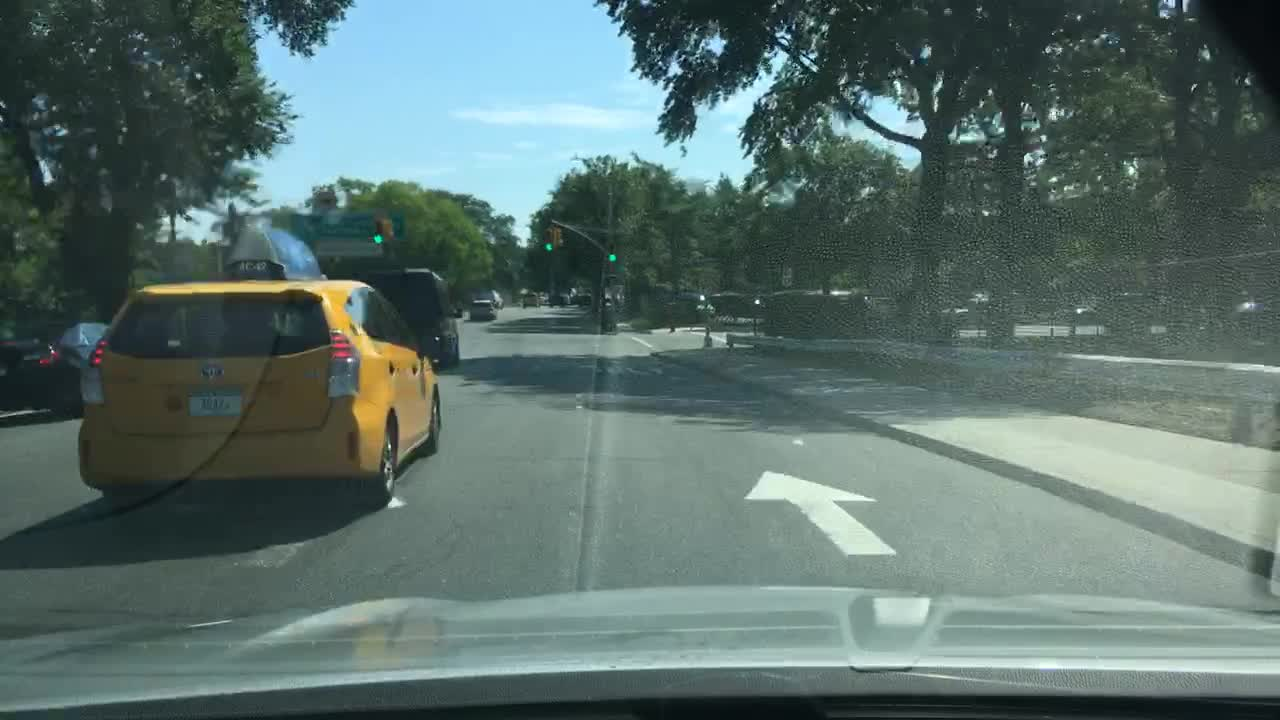car: (71, 223, 443, 496), (0, 321, 109, 422), (361, 269, 457, 368), (1070, 292, 1151, 330), (655, 289, 717, 327), (709, 286, 768, 322), (469, 296, 498, 319), (520, 292, 543, 309), (550, 291, 568, 309), (573, 291, 591, 309)
traffic light: (373, 214, 389, 248), (605, 239, 617, 267), (543, 225, 553, 251), (553, 227, 563, 250)
traffic sign: (297, 213, 402, 253)
